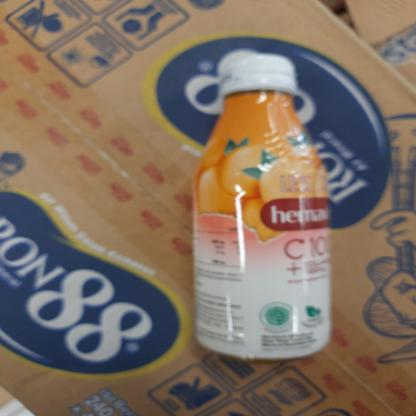glass: (188, 49, 338, 363)
